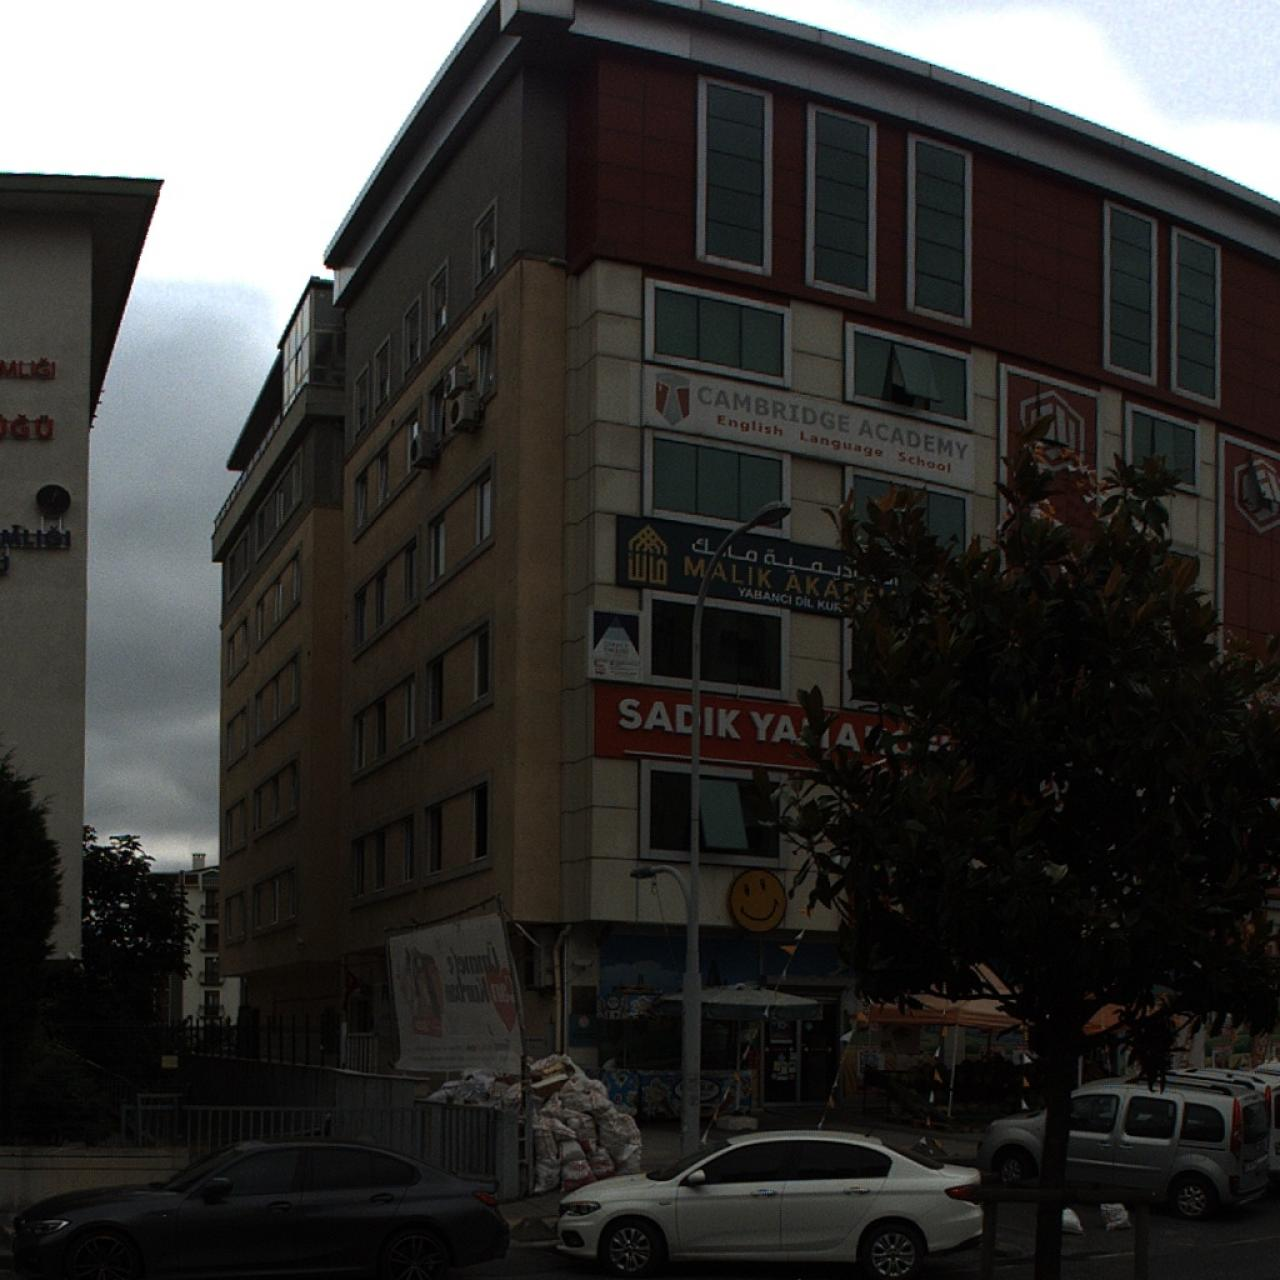SignStore: (641, 366, 976, 495), (594, 683, 960, 778), (614, 516, 908, 620)
